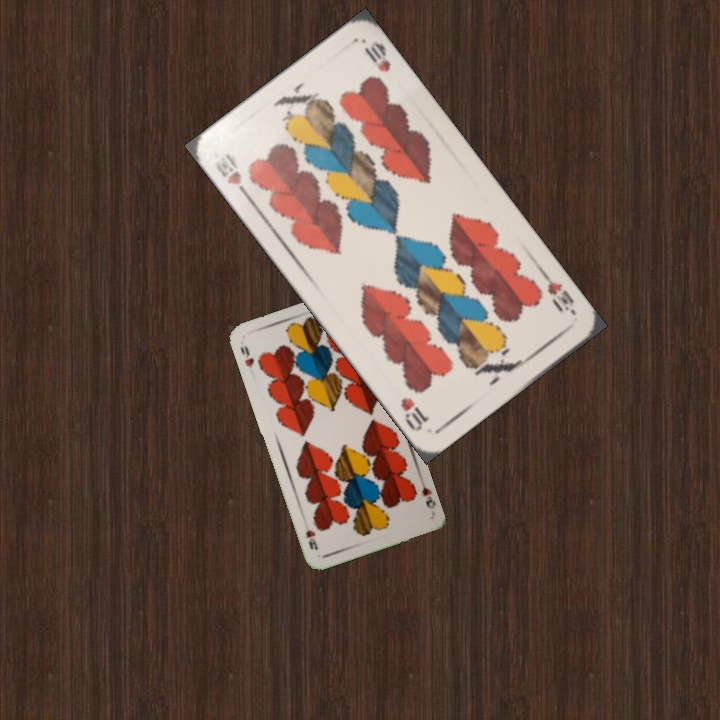H10: (210, 148, 253, 202), (537, 267, 579, 319)
H9: (417, 477, 437, 511), (236, 340, 257, 370)
